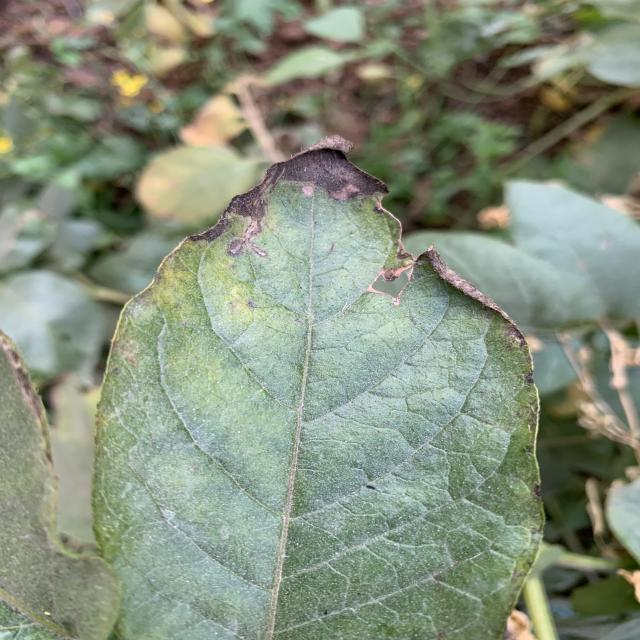lateblight: (187, 136, 400, 258), (417, 245, 513, 324)
